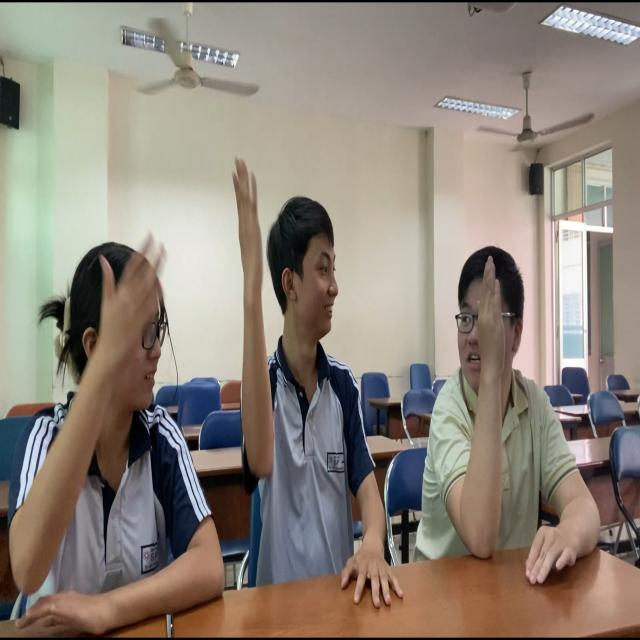raise_hand: (8, 210, 182, 589), (427, 243, 587, 557), (230, 142, 347, 567)
